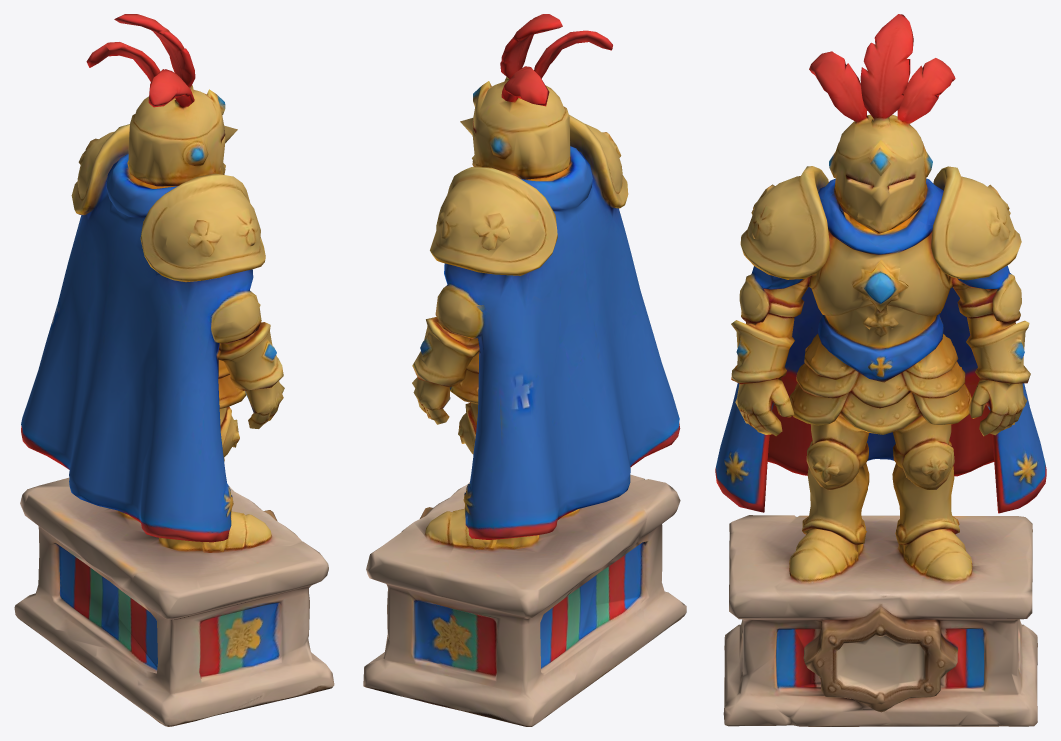
Rendered from knight_armor.glb.
3 renders of one model, left to right at view 1: azimuth 30°, elevation 25°; view 2: azimuth 150°, elevation 25°; view 3: azimuth 270°, elevation 25°, orthographic.
Parts seen in each view (by area): view 1: tripo_node_d2d6d792-596e-4c10-b229-fd6d2fd6e773; view 2: tripo_node_d2d6d792-596e-4c10-b229-fd6d2fd6e773; view 3: tripo_node_d2d6d792-596e-4c10-b229-fd6d2fd6e773.
Boxes of the visible parts, x1,y1,x2,y2 form: tripo_node_d2d6d792-596e-4c10-b229-fd6d2fd6e773: (14,14,334,726); tripo_node_d2d6d792-596e-4c10-b229-fd6d2fd6e773: (363,14,686,726); tripo_node_d2d6d792-596e-4c10-b229-fd6d2fd6e773: (715,14,1046,726).
Size of the model in its own units: 0.0986 by 0.3 by 0.1386.
Materials: 1 (1 with a texture image).
